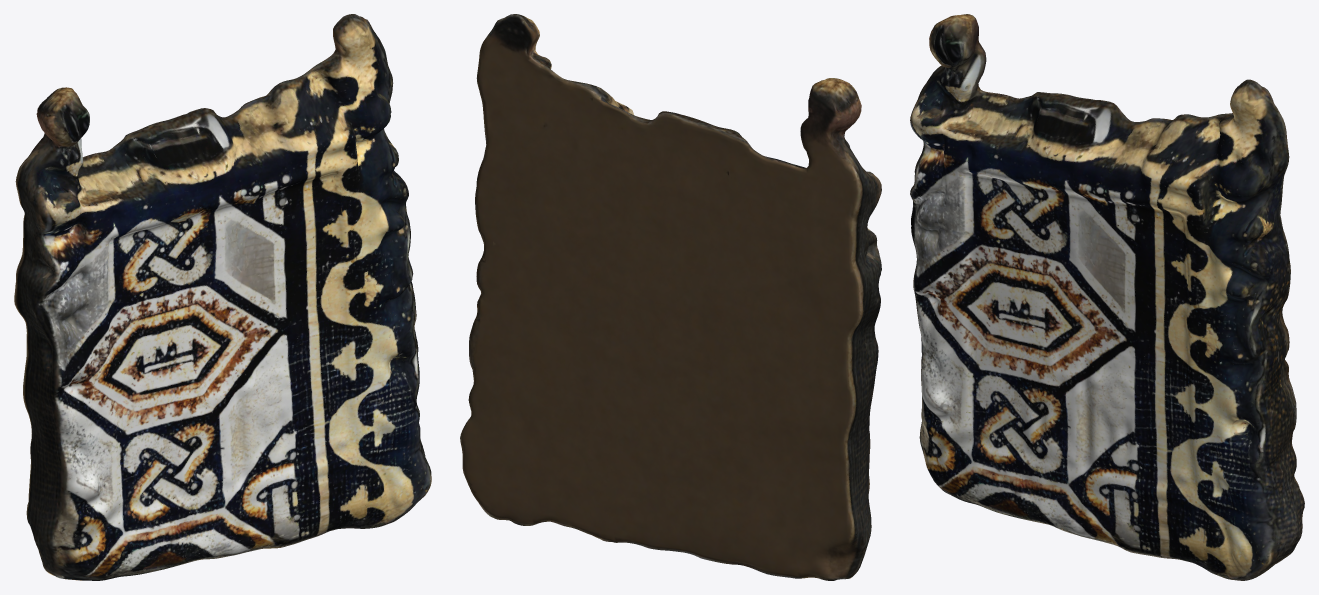
The model's file is primary.glb.
3 views of the same model, side by side, from view 1: azimuth 30°, elevation 25°; view 2: azimuth 150°, elevation 25°; view 3: azimuth 330°, elevation 25° (orthographic). The views are drawn at different scales.
Bounding box in the file's own units: 1.66 × 2 × 0.2709.
1 material, 1 textured.
